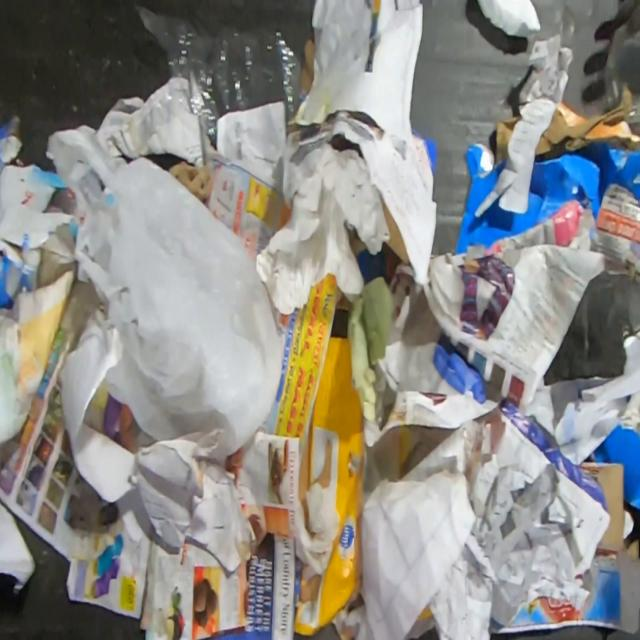cardboard: (454, 141, 640, 282), (489, 462, 640, 635), (292, 334, 370, 637), (0, 113, 76, 310), (534, 82, 640, 160), (494, 115, 522, 164)
soft_plastic: (44, 121, 285, 467), (132, 2, 301, 145)
